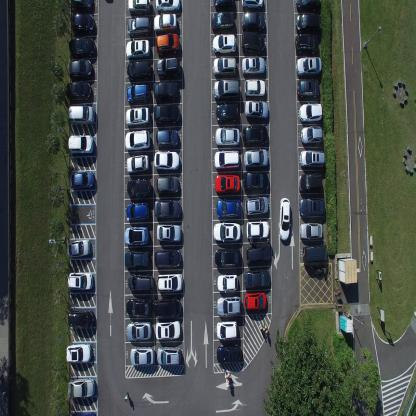car: (65, 340, 92, 365), (212, 148, 240, 172), (68, 35, 96, 59), (67, 377, 96, 400), (216, 293, 242, 318), (245, 241, 271, 266), (242, 170, 269, 194), (212, 220, 241, 242), (125, 128, 151, 152), (278, 195, 291, 243), (239, 30, 265, 54), (295, 55, 322, 78), (153, 296, 181, 318), (154, 318, 182, 340), (125, 296, 153, 318), (67, 104, 95, 126), (242, 125, 268, 148), (213, 78, 239, 101), (153, 103, 180, 125), (156, 222, 183, 244), (244, 268, 271, 290), (215, 198, 242, 220), (299, 148, 326, 170), (154, 248, 182, 269), (67, 308, 95, 329), (212, 32, 236, 56), (129, 344, 154, 367), (241, 55, 266, 78), (127, 15, 152, 38), (156, 56, 181, 79), (154, 150, 180, 172), (156, 344, 182, 366), (126, 177, 152, 199), (216, 342, 242, 364), (215, 246, 241, 268), (214, 172, 240, 194), (243, 148, 269, 170), (214, 125, 240, 147), (68, 133, 94, 155), (153, 80, 179, 102), (154, 198, 181, 219), (156, 272, 183, 293), (65, 80, 92, 101), (299, 196, 326, 217), (124, 224, 148, 247), (215, 101, 239, 124), (126, 37, 150, 60), (126, 82, 150, 105), (296, 77, 320, 100), (155, 127, 180, 149), (244, 194, 269, 216), (70, 12, 95, 34), (126, 320, 152, 341), (295, 13, 321, 34), (66, 60, 93, 80), (68, 171, 96, 190), (126, 106, 150, 128), (243, 290, 267, 312), (244, 99, 268, 121), (212, 56, 236, 78), (66, 237, 90, 259), (153, 12, 177, 34), (155, 34, 179, 56), (127, 60, 151, 82), (298, 172, 322, 194), (294, 35, 319, 56), (67, 272, 93, 292), (302, 244, 328, 264), (126, 200, 149, 222), (216, 271, 239, 293), (246, 218, 269, 240), (211, 10, 234, 32), (300, 124, 323, 146), (156, 173, 180, 194), (126, 153, 150, 174), (298, 102, 322, 123), (128, 273, 153, 293), (240, 10, 265, 30), (123, 250, 150, 268), (216, 320, 238, 341), (300, 220, 323, 240), (244, 78, 266, 98), (294, 0, 322, 15), (154, 0, 181, 14), (127, 0, 151, 15), (70, 0, 94, 12), (240, 0, 264, 11), (214, 0, 234, 8)
